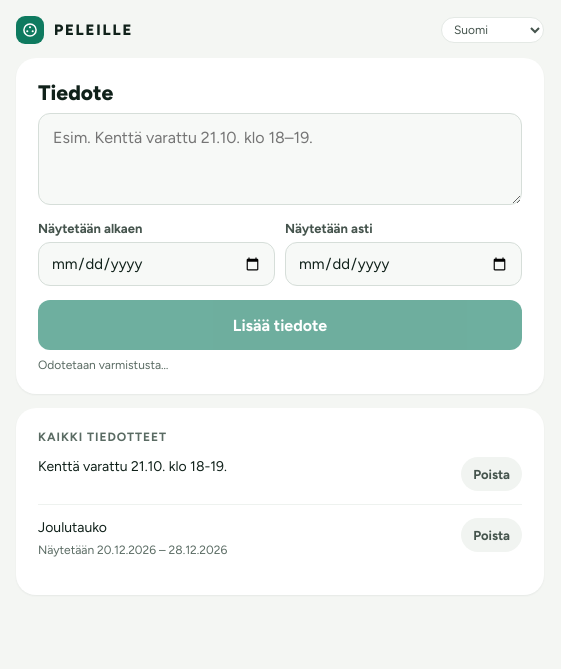
the bot check on the announcements page › nothing can be written before a token has arrived
The image size is (561, 669).
Check: the text "Joulutauko" is shown, box [38,519,107,536]
Type "Uusi tiedote" into the text box labelled "Tiedote".
click(280, 159); type("Uusi tiedote")  # box [38,113,522,205]
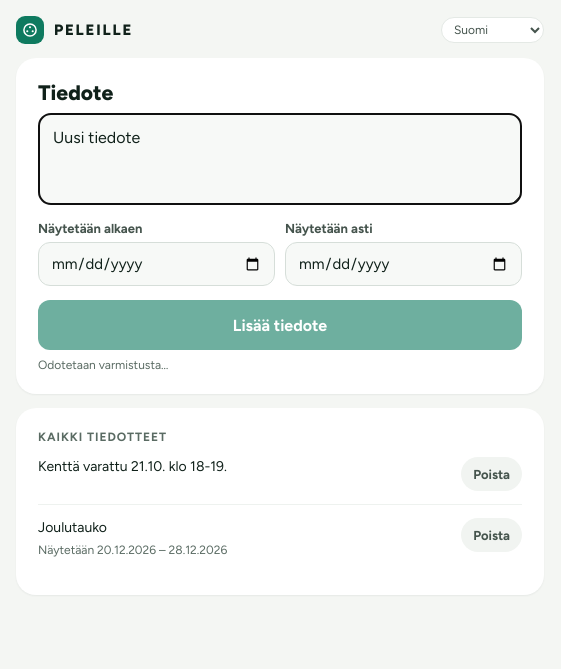
Check: the button "Lisää tiedote" is disabled, box [38,300,522,350]
Click the button with aria-label "Poista tiedote Joulutauko".
click(492, 535)  # box [461,518,522,552]
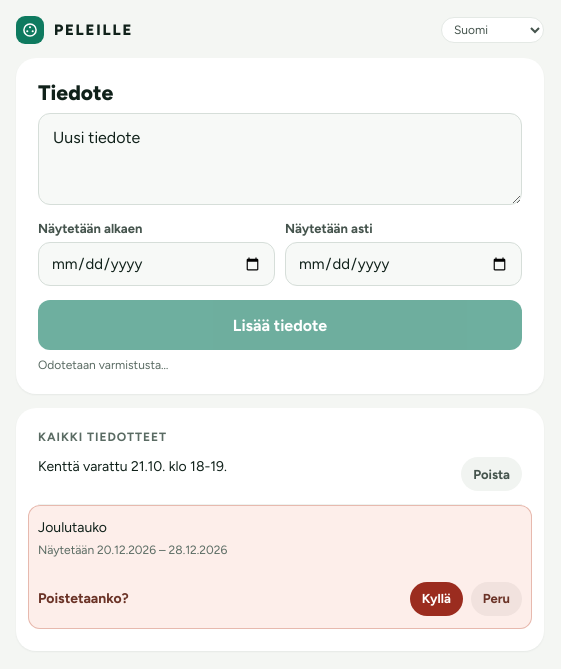
Check: the button "Kyllä" is disabled, box [410,582,463,616]
